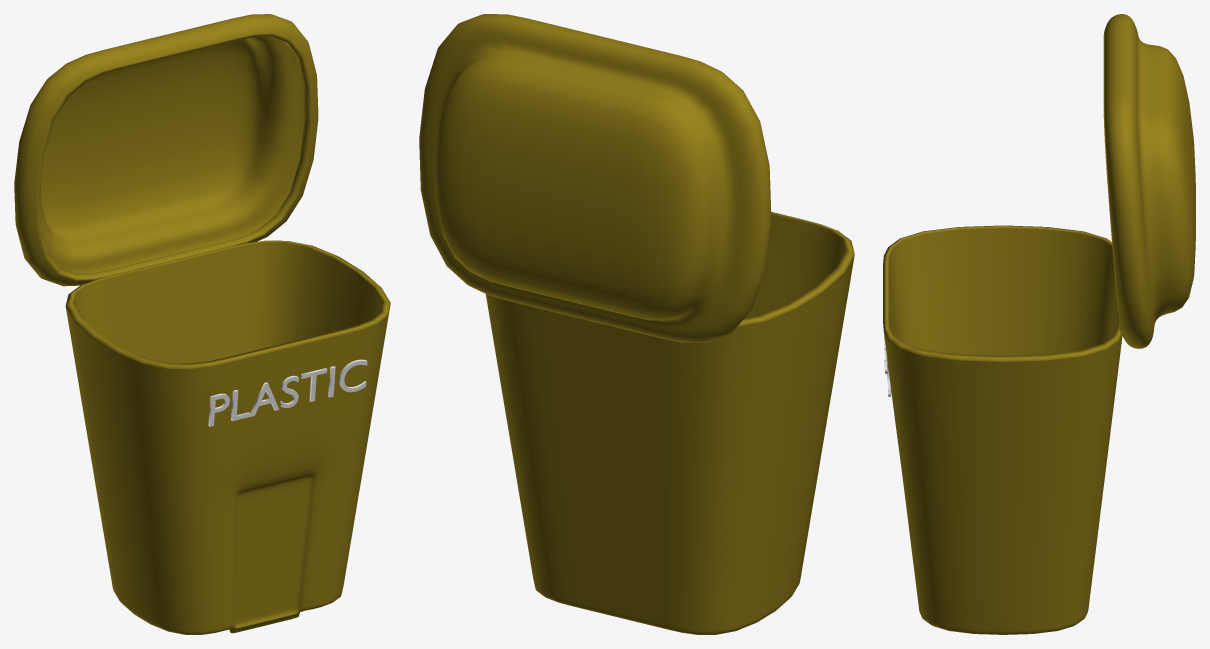
The model's file is Plastic Bin.fbx.
The picture shows the model from 3 angles, left to right: view 1: azimuth 30°, elevation 25°; view 2: azimuth 150°, elevation 25°; view 3: azimuth 270°, elevation 25°; orthographic projection. The views are drawn at different scales.
Parts seen in each view (by area): view 1: Cube, Cube.001, Text; view 2: Cube, Cube.001; view 3: Cube, Cube.001.
Part boxes in pixels (x1=…): Cube: x1=65, y1=240, x2=390, y2=634; Cube.001: x1=14, y1=14, x2=318, y2=286; Text: x1=208, y1=359, x2=367, y2=426; Cube: x1=485, y1=212, x2=854, y2=634; Cube.001: x1=419, y1=14, x2=771, y2=342; Cube: x1=883, y1=225, x2=1122, y2=634; Cube.001: x1=1103, y1=14, x2=1195, y2=348.
Bounding box in the file's own units: 275 × 456 × 241.
